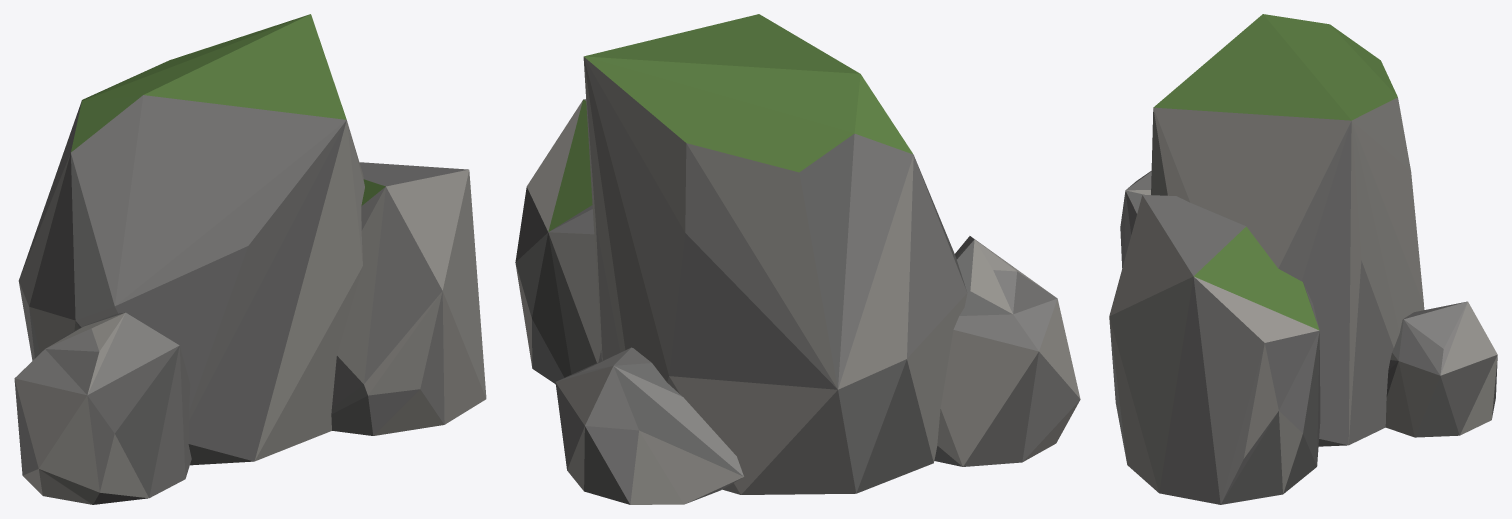
File: stone_largest.glb
The picture shows the model from 3 angles, left to right: view 1: azimuth 30°, elevation 25°; view 2: azimuth 150°, elevation 25°; view 3: azimuth 270°, elevation 25°; orthographic projection. The views are drawn at different scales.
Parts seen in each view (by area): view 1: Stone_largest; view 2: Stone_largest; view 3: Stone_largest.
Boxes of the visible parts, bbox=[...] form: Stone_largest: bbox=[14, 14, 486, 504]; Stone_largest: bbox=[515, 14, 1080, 504]; Stone_largest: bbox=[1109, 14, 1497, 504].
Size of the model in its own units: 4.91 by 3.37 by 3.52.
